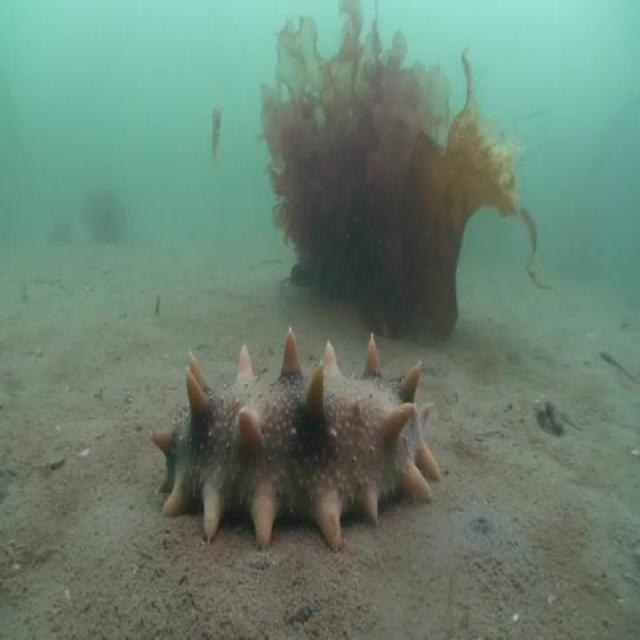holothurian: (142, 330, 443, 545)
